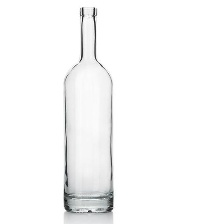bottle: (57, 5, 122, 215)
